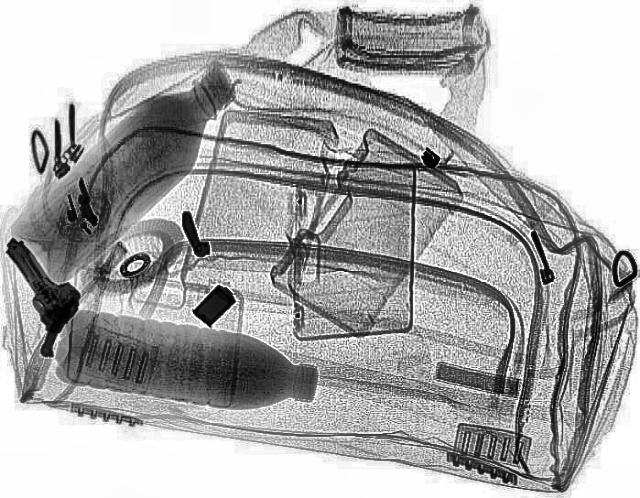Gun: (3, 231, 86, 359)
